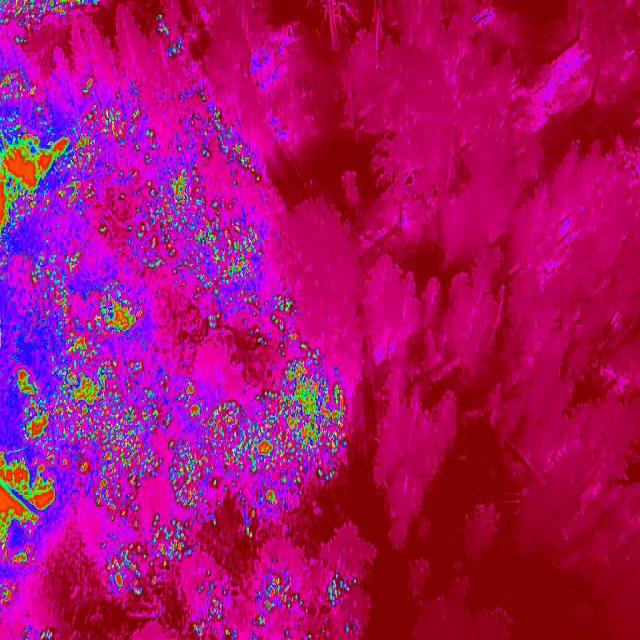fire: (0, 103, 149, 225), (2, 361, 170, 447), (202, 388, 284, 542), (275, 342, 358, 486), (188, 201, 272, 293), (147, 130, 200, 270), (110, 512, 196, 598), (0, 446, 60, 566), (46, 292, 148, 356), (193, 103, 268, 185), (78, 447, 164, 515), (167, 444, 224, 518), (242, 290, 305, 352), (26, 248, 90, 308), (252, 572, 305, 630), (0, 0, 88, 29), (192, 582, 235, 640), (174, 377, 208, 425), (0, 64, 37, 108), (96, 223, 148, 249), (322, 574, 352, 608), (163, 38, 190, 62), (76, 75, 100, 100), (152, 12, 172, 36), (22, 627, 55, 640), (191, 88, 216, 104), (0, 577, 13, 607)
